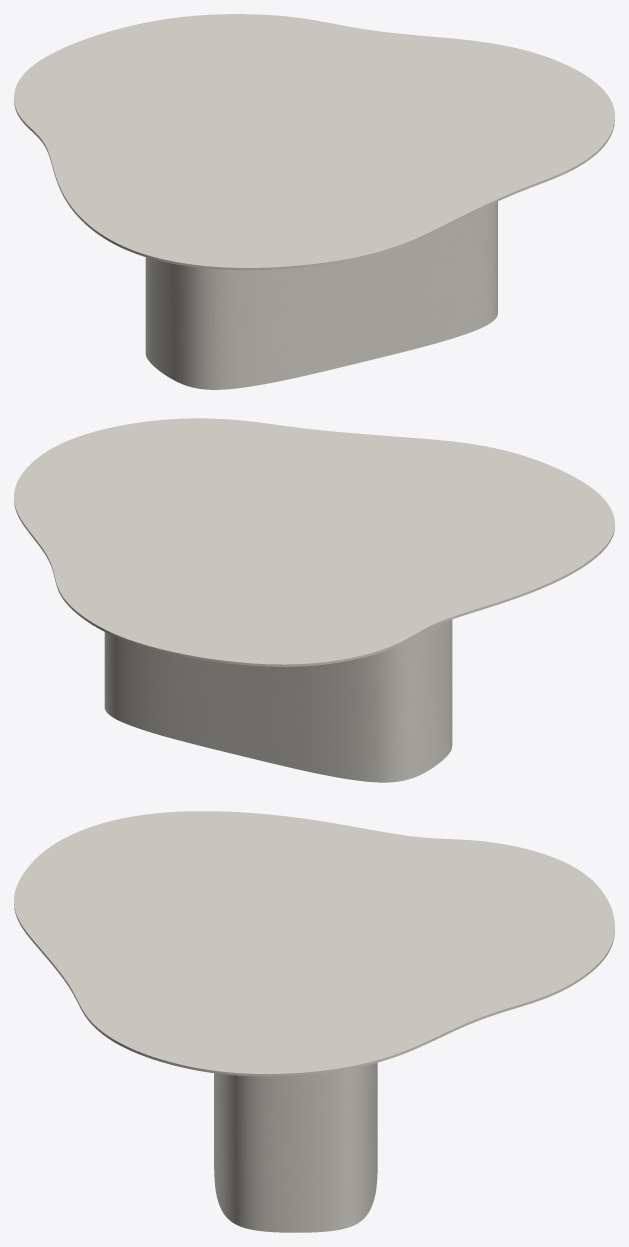
The model's file is pale_topone_facet_fixed.glb.
3 views of the same model, one above another, from view 1: azimuth 30°, elevation 25°; view 2: azimuth 150°, elevation 25°; view 3: azimuth 270°, elevation 25° (orthographic). The views are drawn at different scales.
Parts seen in each view (by area): view 1: facet_topone, fixed; view 2: facet_topone, fixed; view 3: facet_topone, fixed.
Part boxes in pixels (x1,y1,x2,y2): facet_topone: (14, 14, 614, 270); fixed: (145, 201, 497, 389); facet_topone: (14, 418, 614, 666); fixed: (104, 619, 452, 782); facet_topone: (14, 811, 614, 1076); fixed: (214, 1062, 377, 1232).
Size of the model in its own units: 6.83 by 2.5 by 6.6.
Materials: 1 (1 with a texture image).
